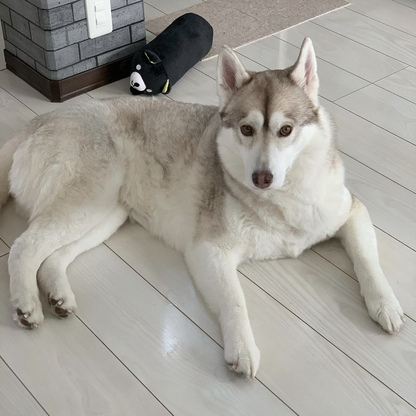husky: (1, 31, 409, 384)
